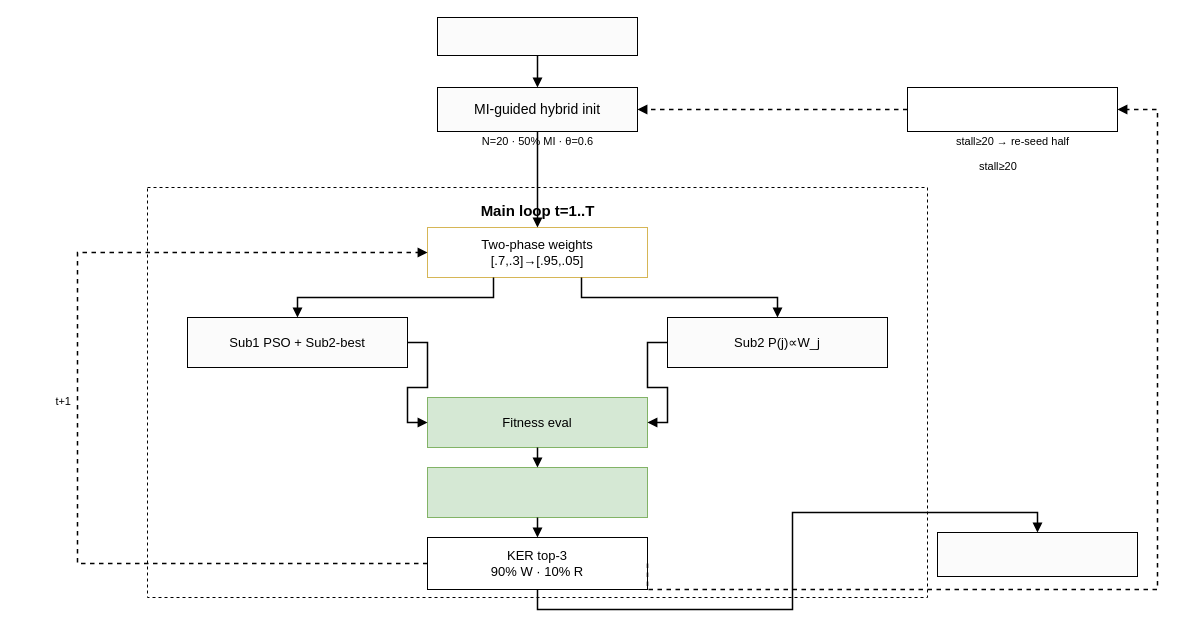
Some shapes in this 1183 by 636 pixel diagram are drawn without their labels. The box of each missing label's shape, as (x1, y1, x2, y2) in pixels:
Adaptive MI re-init: (906, 86, 1118, 132)
Compact feature subset: (936, 532, 1138, 576)
Raw data X (D): (436, 16, 638, 56)
W update + decay δ(2x-1)·0.99: (426, 466, 648, 518)
